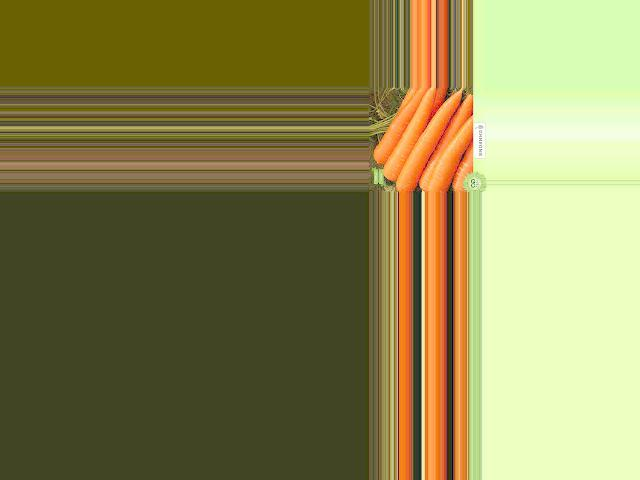carrot: (417, 91, 475, 191)
